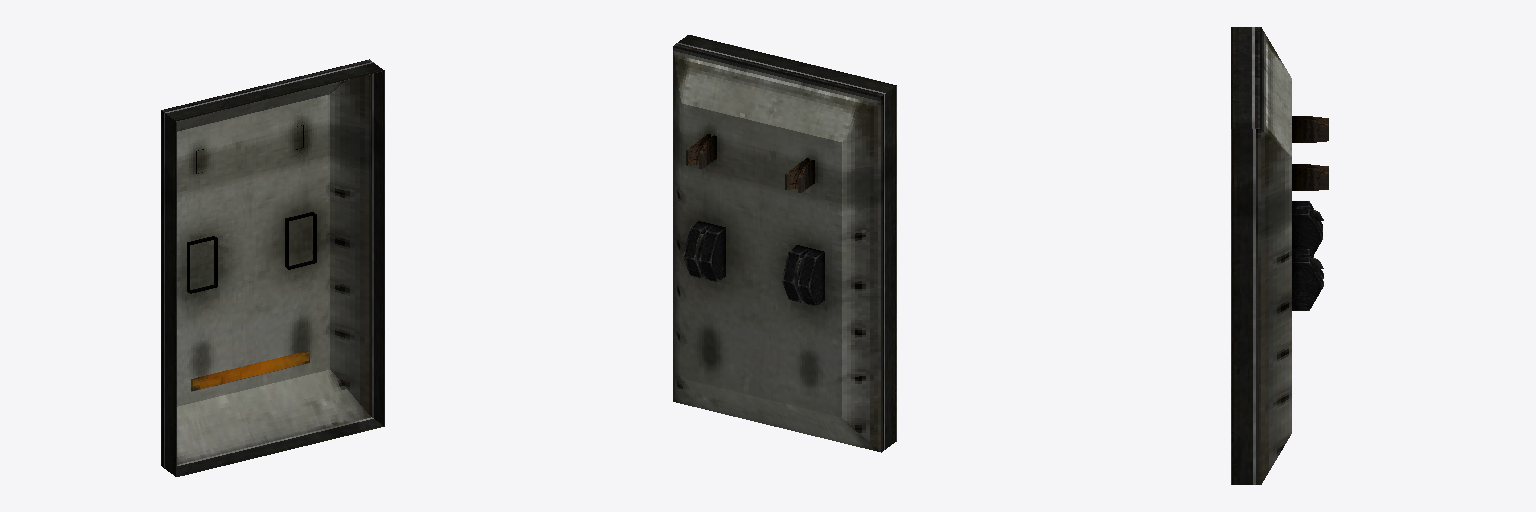
3 views of the same model, side by side, from view 1: azimuth 30°, elevation 25°; view 2: azimuth 150°, elevation 25°; view 3: azimuth 270°, elevation 25° (orthographic).
Parts seen in each view (by area): view 1: SCP_Lever; view 2: SCP_Lever; view 3: SCP_Lever.
Boxes of the visible parts, box(x1,y1,x2,y2) form: SCP_Lever: box(161, 59, 384, 476); SCP_Lever: box(673, 35, 896, 452); SCP_Lever: box(1231, 27, 1328, 484).
Size of the model in its own units: 1.29 by 2.11 by 0.5307.
Materials: 1 (1 with a texture image).